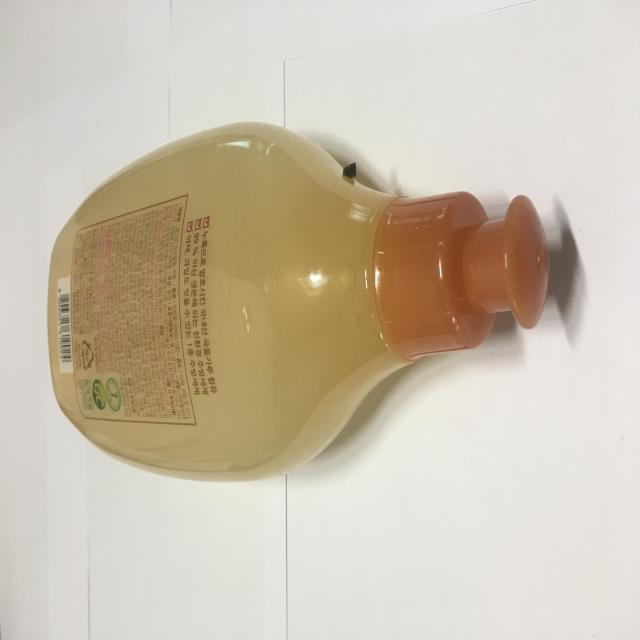bottle: (48, 128, 550, 483)
